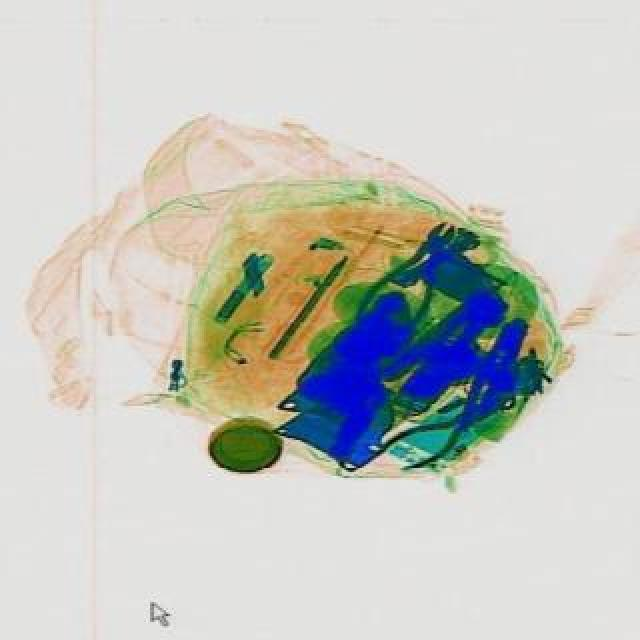wrench: (348, 206, 476, 346), (378, 376, 520, 480)
